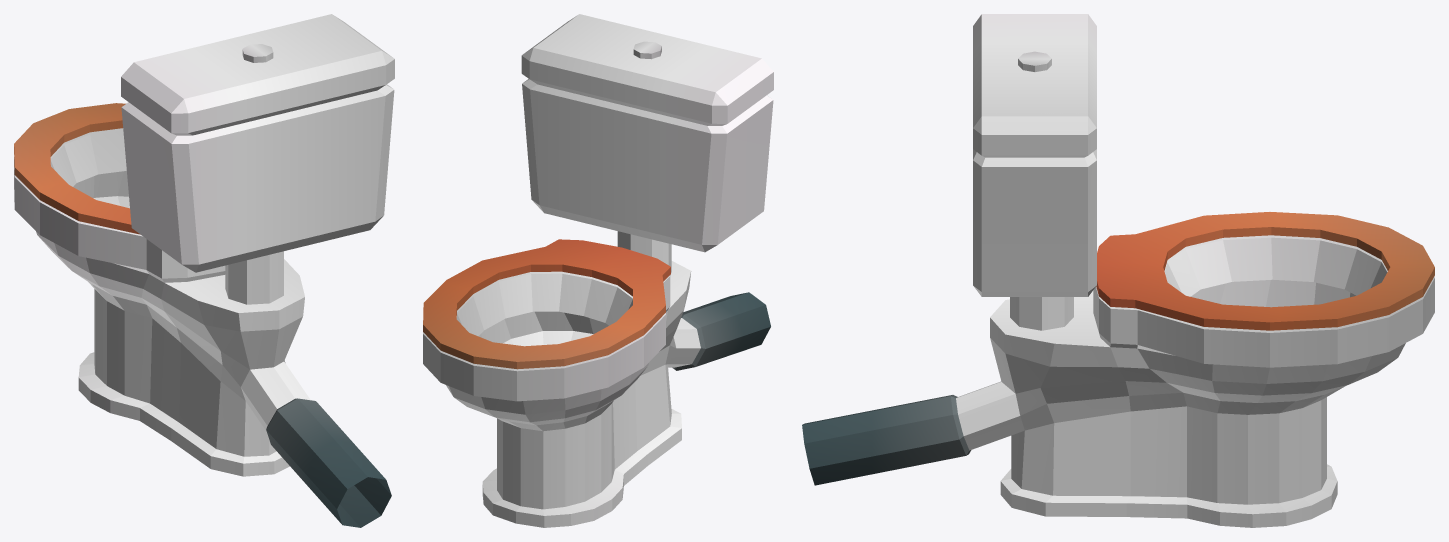
Rendered from Toilet.fbx.
The picture shows the model from 3 angles, left to right: view 1: azimuth 30°, elevation 25°; view 2: azimuth 150°, elevation 25°; view 3: azimuth 270°, elevation 25°; orthographic projection. The views are drawn at different scales.
Visible parts, largest first — view 1: Toilet; view 2: Toilet; view 3: Toilet.
Boxes of the visible parts, x1,y1,x2,y2 form: Toilet: (14,14,394,527); Toilet: (423,14,773,527); Toilet: (802,14,1434,527).
Size of the model in its own units: 43.61 by 76.74 by 101.
